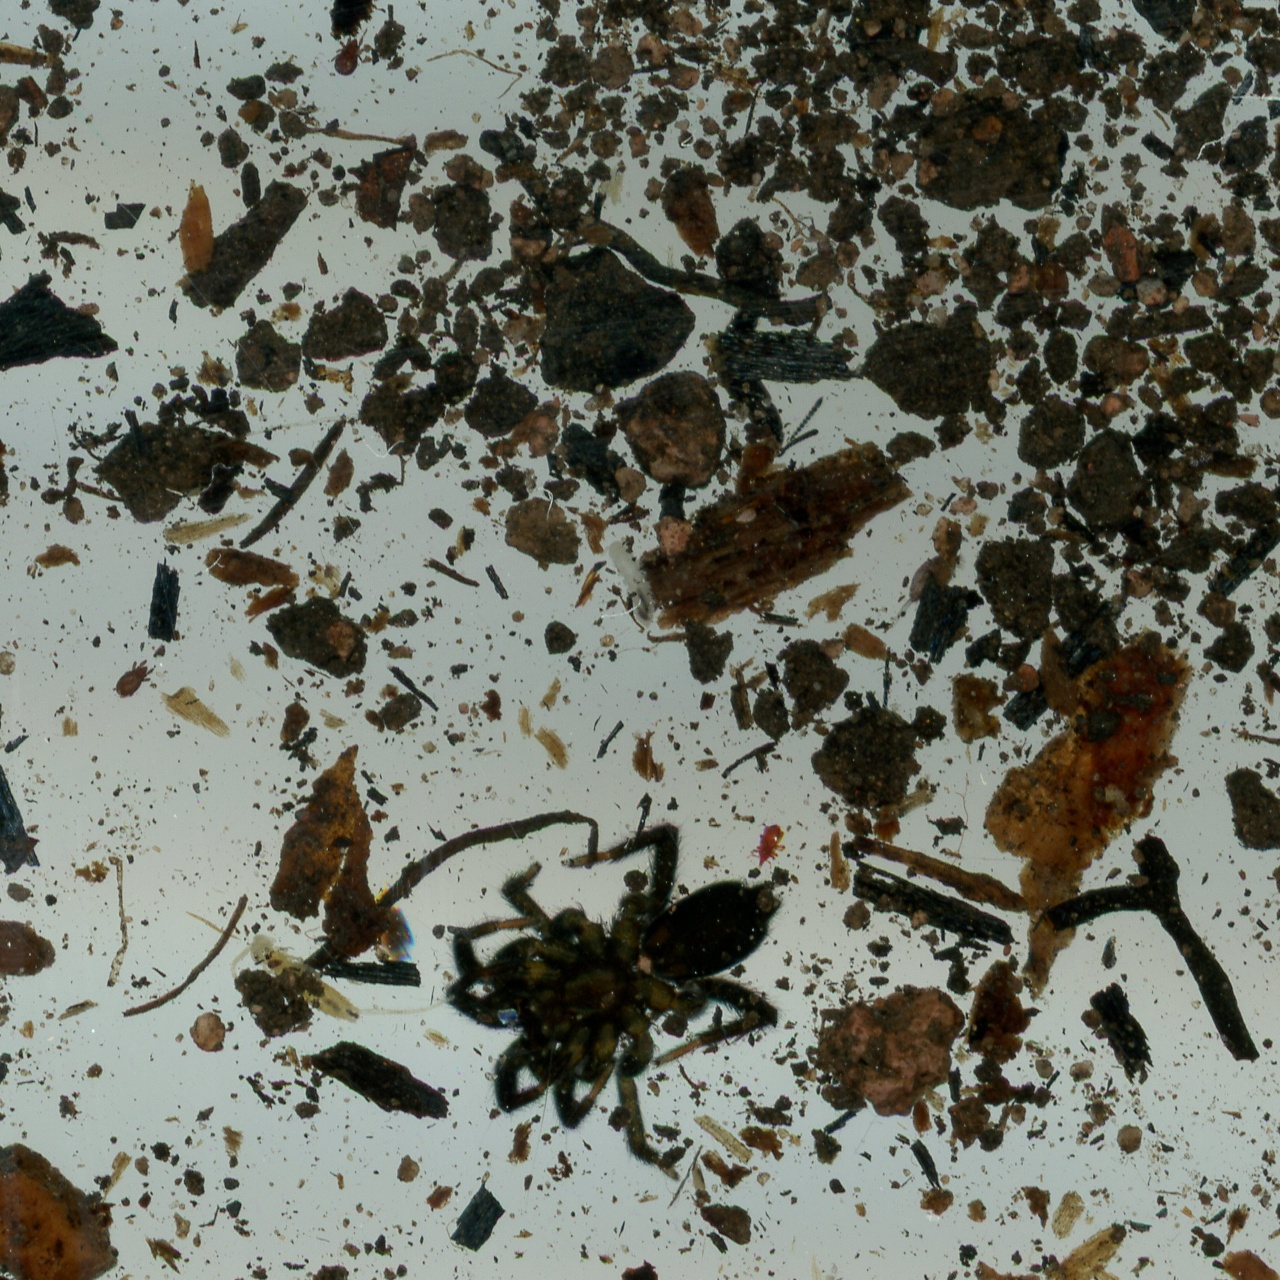arthropod: (394, 776, 870, 1237), (227, 930, 456, 1035), (703, 297, 828, 480), (892, 514, 970, 627), (602, 534, 658, 636), (745, 818, 794, 875)
